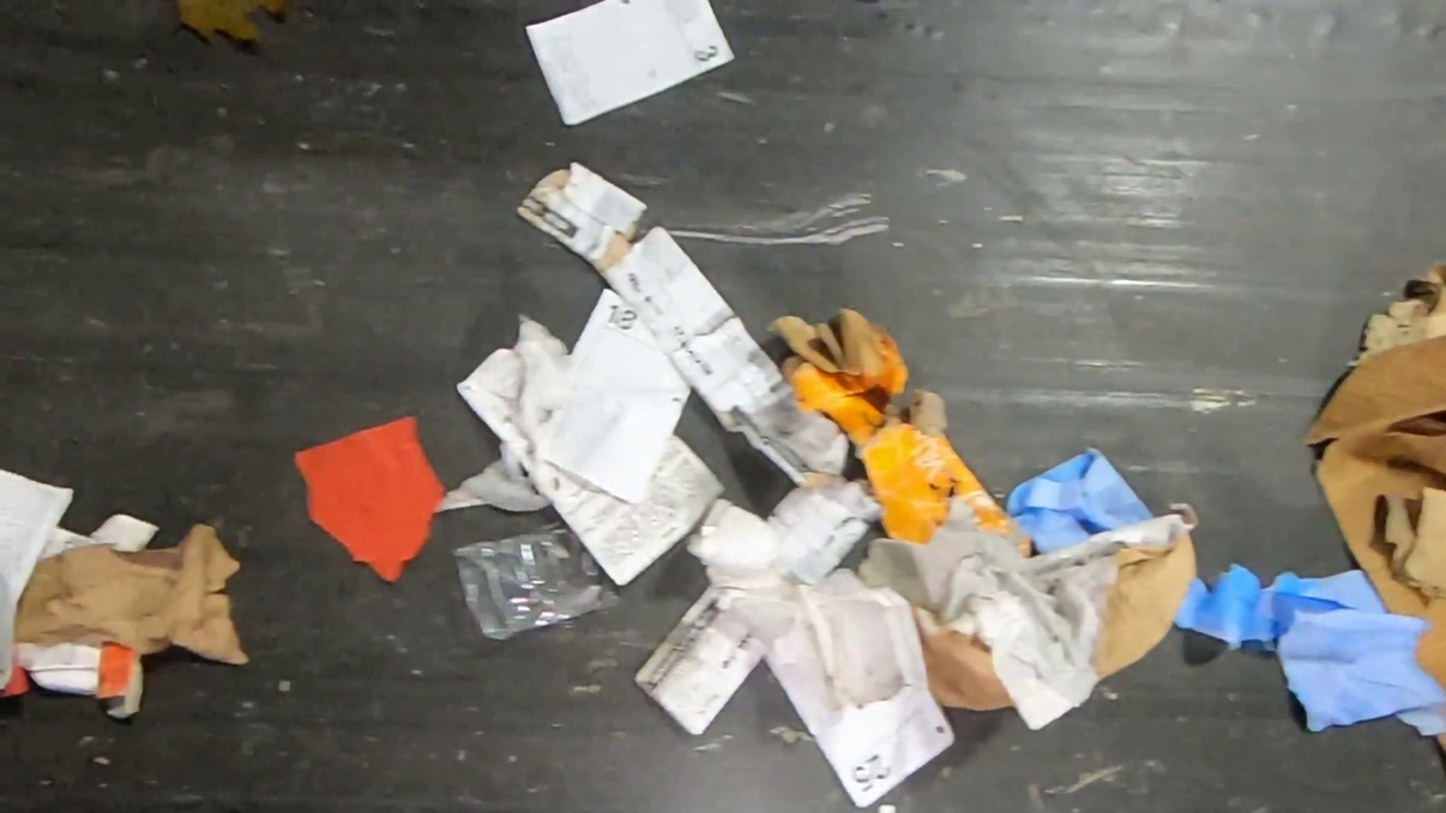cardboard: (858, 496, 1198, 733), (767, 310, 1033, 557), (1303, 263, 1445, 688), (11, 520, 246, 662)
plastic: (453, 521, 620, 641)
